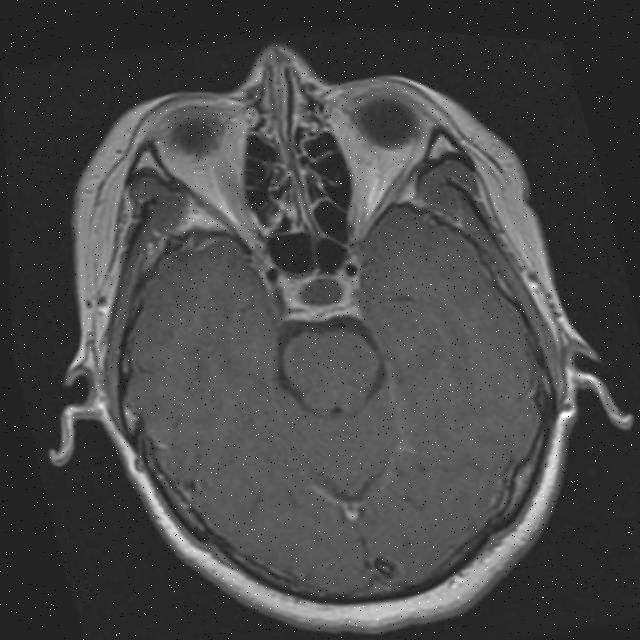Pituitary: (277, 258, 356, 321)
